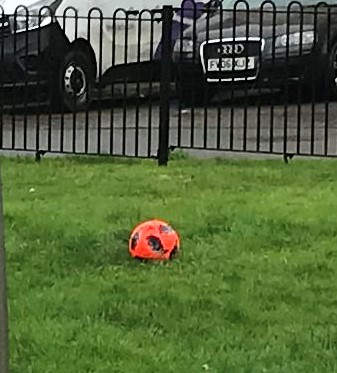football: (126, 216, 187, 263)
